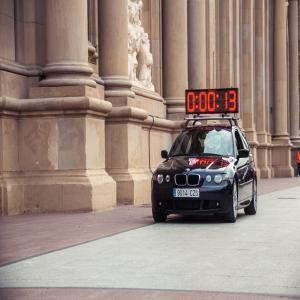Vehicle-registration-plate: (173, 188, 201, 200)
